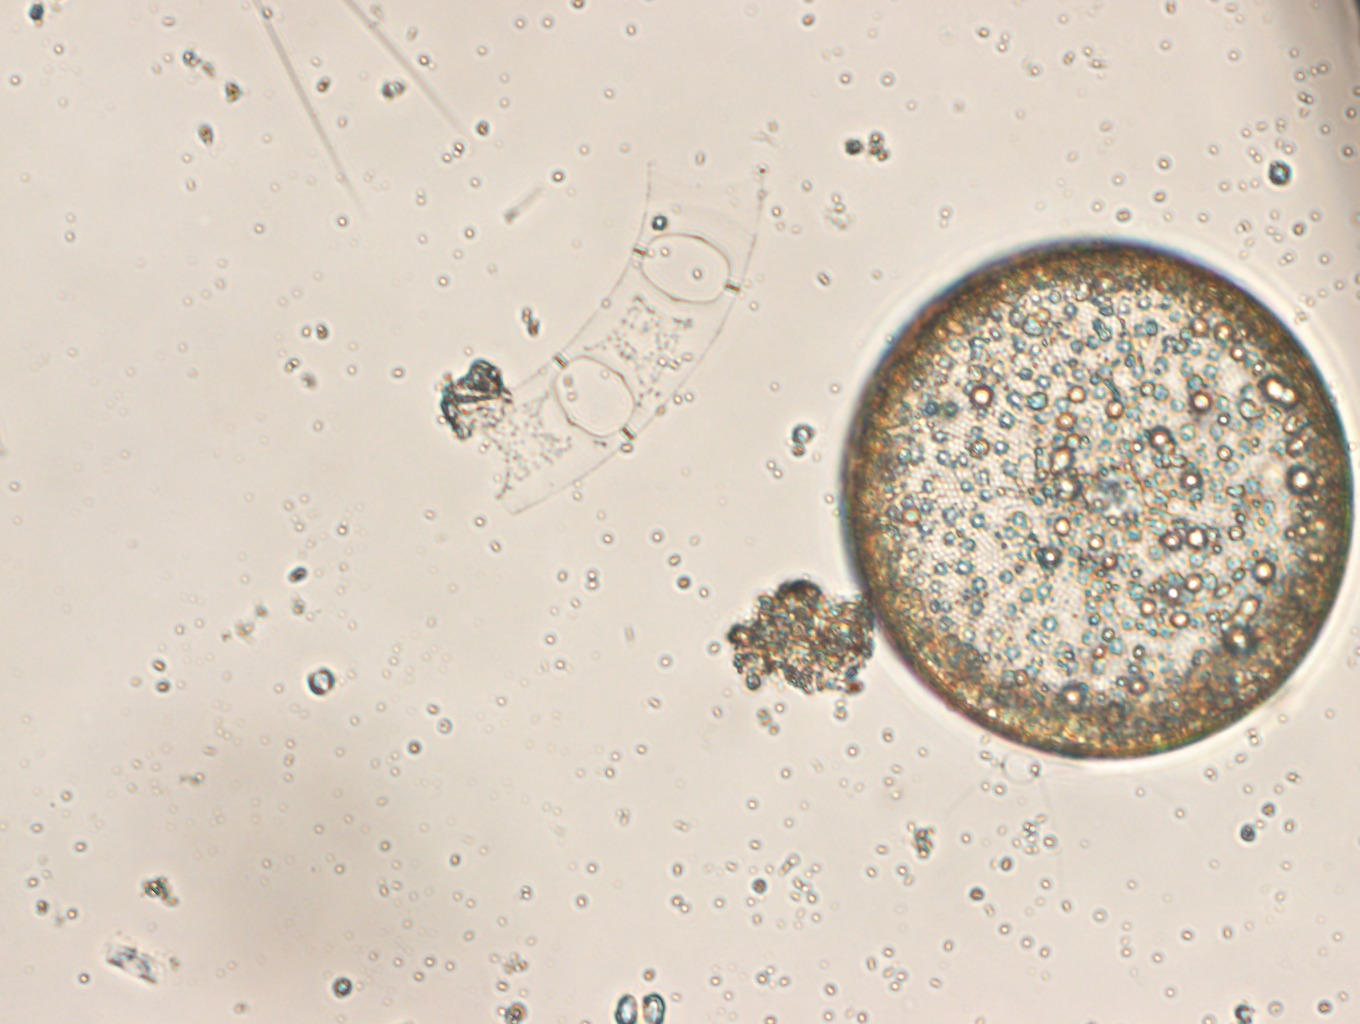coscinodiscus: (840, 236, 1357, 760)
eucampia: (432, 170, 763, 514)
